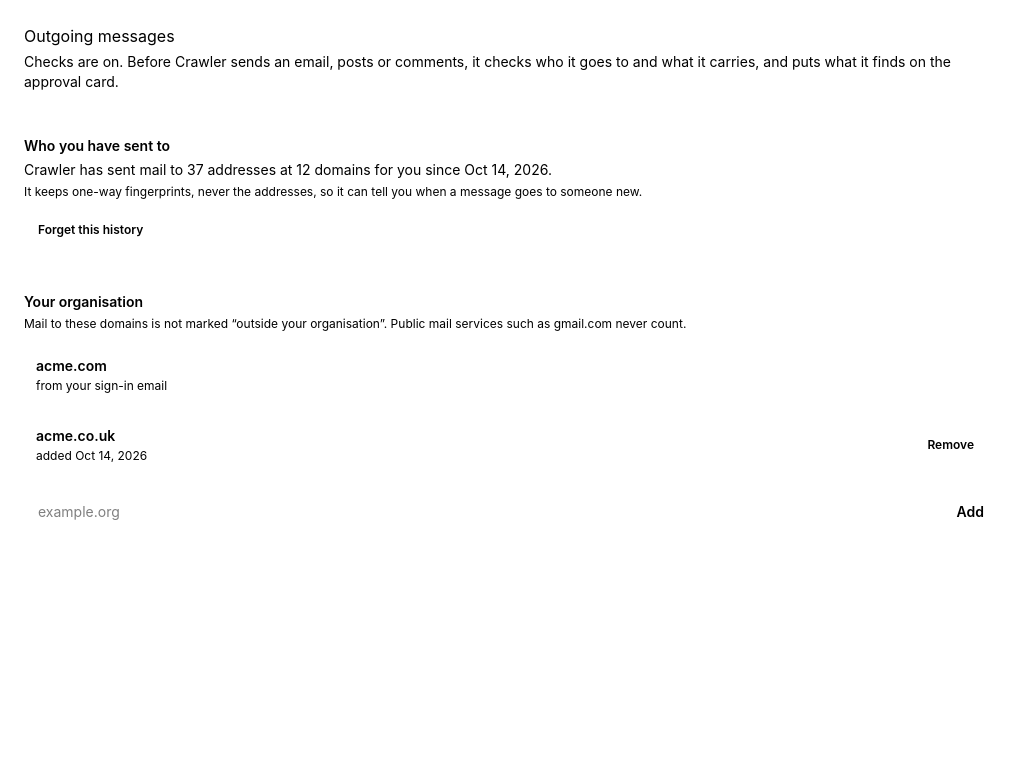
Scenario: OutgoingMessagesTab › shows a 409 for a domain already listed as the server words it
Step 1. Type "acme.co.uk" into the field named "Domain to add" → {"x": 478, "y": 512}, box [24,492,932,532]
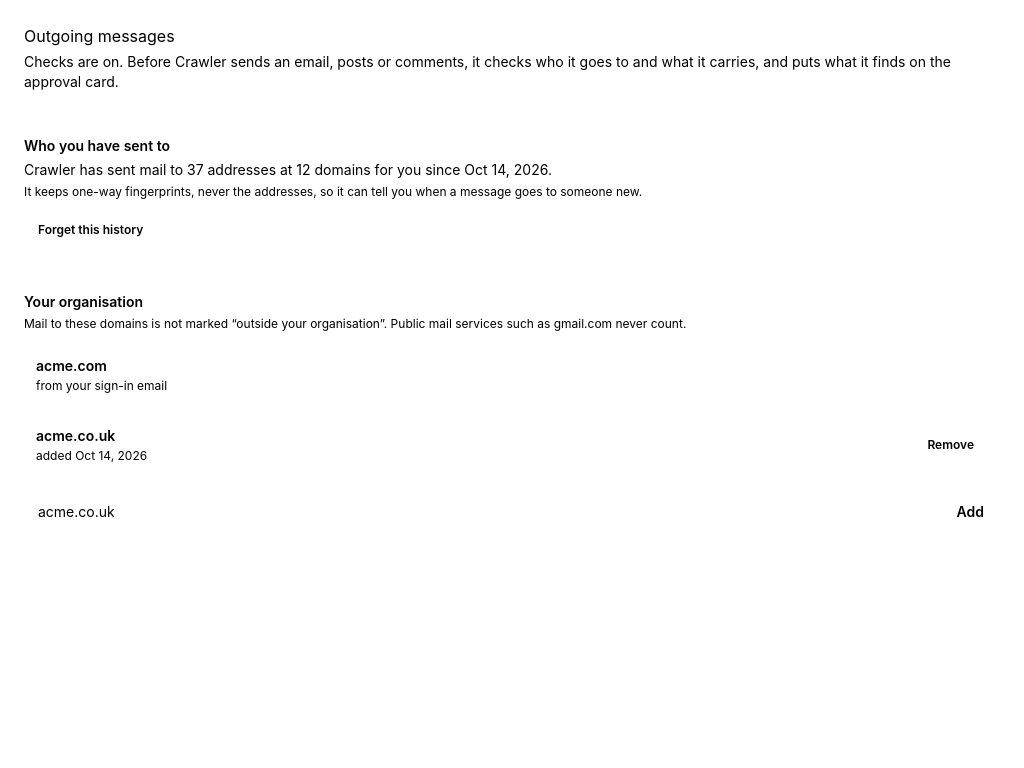
Step 2. Click the button "Add" → {"x": 970, "y": 512}, box [940,492,1000,532]
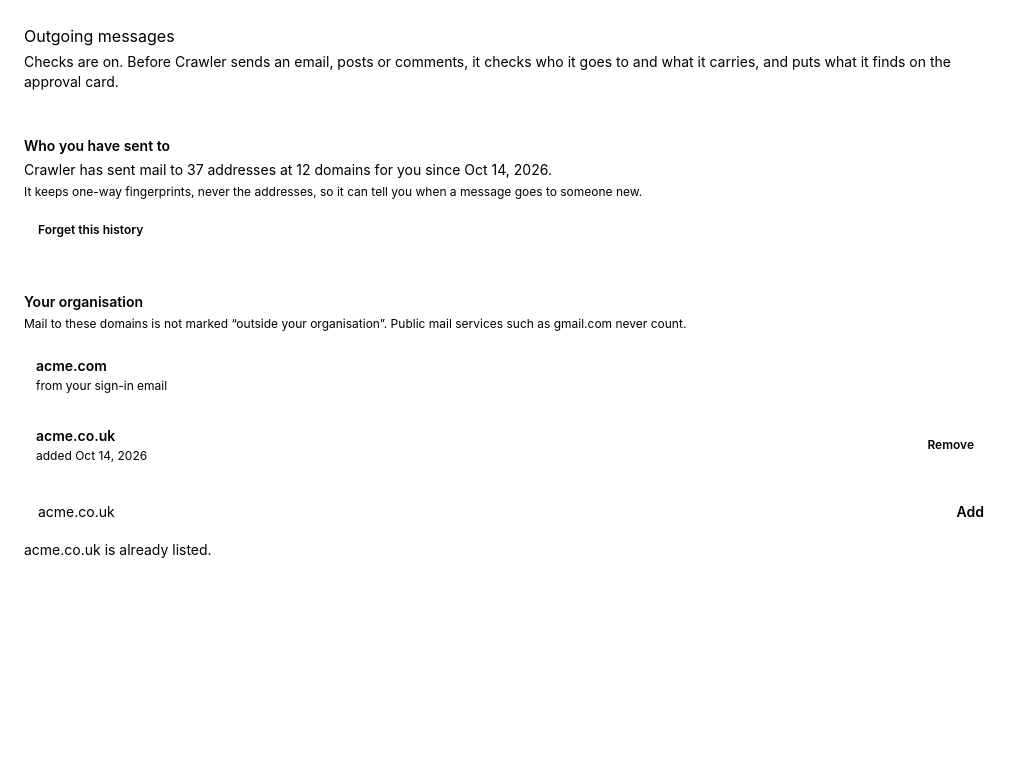
Now the message reads "acme.co.uk is already listed.", box [24,541,212,558]
